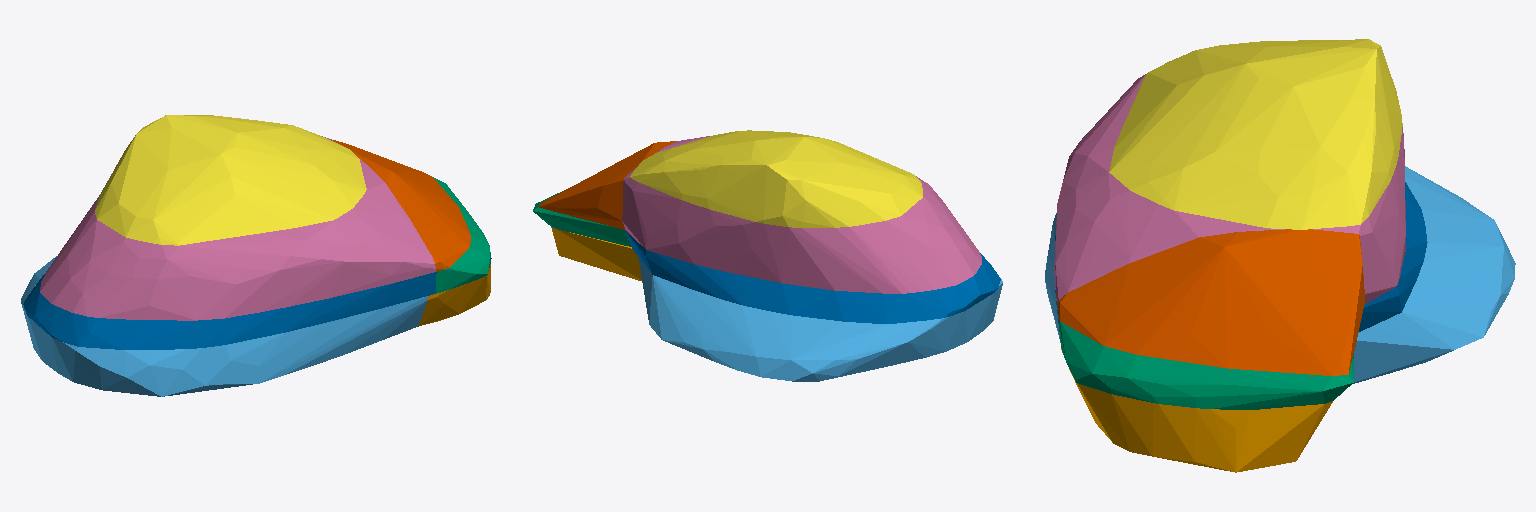
The robot description file, URDF, robot "root":
<?xml version='1.0' encoding='UTF-8'?>
<robot name="root">
  <link name="link_convex_piece_000.obj">
    <inertial>
      <origin xyz="0 0 0" rpy="0 0 0"/>
    </inertial>
    <visual>
      <origin xyz="0 0 0" rpy="0 0 0"/>
      <geometry>
        <mesh filename="meshes/convex_piece_000.obj" scale="1.0 1.0 1.0"/>
      </geometry>
    </visual>
    <collision>
      <origin xyz="0 0 0" rpy="0 0 0"/>
      <geometry>
        <mesh filename="meshes/convex_piece_000.obj" scale="1.0 1.0 1.0"/>
      </geometry>
    </collision>
  </link>
  <link name="link_convex_piece_001.obj">
    <inertial>
      <origin xyz="0 0 0" rpy="0 0 0"/>
    </inertial>
    <visual>
      <origin xyz="0 0 0" rpy="0 0 0"/>
      <geometry>
        <mesh filename="meshes/convex_piece_001.obj" scale="1.0 1.0 1.0"/>
      </geometry>
    </visual>
    <collision>
      <origin xyz="0 0 0" rpy="0 0 0"/>
      <geometry>
        <mesh filename="meshes/convex_piece_001.obj" scale="1.0 1.0 1.0"/>
      </geometry>
    </collision>
  </link>
  <link name="link_convex_piece_002.obj">
    <inertial>
      <origin xyz="0 0 0" rpy="0 0 0"/>
    </inertial>
    <visual>
      <origin xyz="0 0 0" rpy="0 0 0"/>
      <geometry>
        <mesh filename="meshes/convex_piece_002.obj" scale="1.0 1.0 1.0"/>
      </geometry>
    </visual>
    <collision>
      <origin xyz="0 0 0" rpy="0 0 0"/>
      <geometry>
        <mesh filename="meshes/convex_piece_002.obj" scale="1.0 1.0 1.0"/>
      </geometry>
    </collision>
  </link>
  <link name="link_convex_piece_003.obj">
    <inertial>
      <origin xyz="0 0 0" rpy="0 0 0"/>
    </inertial>
    <visual>
      <origin xyz="0 0 0" rpy="0 0 0"/>
      <geometry>
        <mesh filename="meshes/convex_piece_003.obj" scale="1.0 1.0 1.0"/>
      </geometry>
    </visual>
    <collision>
      <origin xyz="0 0 0" rpy="0 0 0"/>
      <geometry>
        <mesh filename="meshes/convex_piece_003.obj" scale="1.0 1.0 1.0"/>
      </geometry>
    </collision>
  </link>
  <link name="link_convex_piece_004.obj">
    <inertial>
      <origin xyz="0 0 0" rpy="0 0 0"/>
    </inertial>
    <visual>
      <origin xyz="0 0 0" rpy="0 0 0"/>
      <geometry>
        <mesh filename="meshes/convex_piece_004.obj" scale="1.0 1.0 1.0"/>
      </geometry>
    </visual>
    <collision>
      <origin xyz="0 0 0" rpy="0 0 0"/>
      <geometry>
        <mesh filename="meshes/convex_piece_004.obj" scale="1.0 1.0 1.0"/>
      </geometry>
    </collision>
  </link>
  <link name="link_convex_piece_005.obj">
    <inertial>
      <origin xyz="0 0 0" rpy="0 0 0"/>
    </inertial>
    <visual>
      <origin xyz="0 0 0" rpy="0 0 0"/>
      <geometry>
        <mesh filename="meshes/convex_piece_005.obj" scale="1.0 1.0 1.0"/>
      </geometry>
    </visual>
    <collision>
      <origin xyz="0 0 0" rpy="0 0 0"/>
      <geometry>
        <mesh filename="meshes/convex_piece_005.obj" scale="1.0 1.0 1.0"/>
      </geometry>
    </collision>
  </link>
  <link name="link_convex_piece_006.obj">
    <inertial>
      <origin xyz="0 0 0" rpy="0 0 0"/>
    </inertial>
    <visual>
      <origin xyz="0 0 0" rpy="0 0 0"/>
      <geometry>
        <mesh filename="meshes/convex_piece_006.obj" scale="1.0 1.0 1.0"/>
      </geometry>
    </visual>
    <collision>
      <origin xyz="0 0 0" rpy="0 0 0"/>
      <geometry>
        <mesh filename="meshes/convex_piece_006.obj" scale="1.0 1.0 1.0"/>
      </geometry>
    </collision>
  </link>
  <joint name="link_convex_piece_001.obj_joint" type="fixed">
    <origin xyz="0 0 0" rpy="0 0 0"/>
    <parent link="link_convex_piece_000.obj"/>
    <child link="link_convex_piece_001.obj"/>
  </joint>
  <joint name="link_convex_piece_002.obj_joint" type="fixed">
    <origin xyz="0 0 0" rpy="0 0 0"/>
    <parent link="link_convex_piece_000.obj"/>
    <child link="link_convex_piece_002.obj"/>
  </joint>
  <joint name="link_convex_piece_003.obj_joint" type="fixed">
    <origin xyz="0 0 0" rpy="0 0 0"/>
    <parent link="link_convex_piece_000.obj"/>
    <child link="link_convex_piece_003.obj"/>
  </joint>
  <joint name="link_convex_piece_004.obj_joint" type="fixed">
    <origin xyz="0 0 0" rpy="0 0 0"/>
    <parent link="link_convex_piece_000.obj"/>
    <child link="link_convex_piece_004.obj"/>
  </joint>
  <joint name="link_convex_piece_005.obj_joint" type="fixed">
    <origin xyz="0 0 0" rpy="0 0 0"/>
    <parent link="link_convex_piece_000.obj"/>
    <child link="link_convex_piece_005.obj"/>
  </joint>
  <joint name="link_convex_piece_006.obj_joint" type="fixed">
    <origin xyz="0 0 0" rpy="0 0 0"/>
    <parent link="link_convex_piece_000.obj"/>
    <child link="link_convex_piece_006.obj"/>
  </joint>
</robot>

--- What the picture shows (computed from the rendered views, not written in the file) ---
3 views of the same robot in one strip: view 1: azimuth 30°, elevation 25°; view 2: azimuth 150°, elevation 25°; view 3: azimuth 270°, elevation 25° (orthographic).
Robot: root — 7 links, 6 joints (6 fixed); root link link_convex_piece_000.obj; default pose: all joints at 0.
Visible links, largest first — view 1: link_convex_piece_006.obj, link_convex_piece_003.obj, link_convex_piece_001.obj, link_convex_piece_004.obj, link_convex_piece_005.obj, link_convex_piece_002.obj, link_convex_piece_000.obj; view 2: link_convex_piece_006.obj, link_convex_piece_003.obj, link_convex_piece_001.obj, link_convex_piece_004.obj, link_convex_piece_005.obj, link_convex_piece_000.obj, link_convex_piece_002.obj; view 3: link_convex_piece_003.obj, link_convex_piece_005.obj, link_convex_piece_006.obj, link_convex_piece_001.obj, link_convex_piece_000.obj, link_convex_piece_002.obj, link_convex_piece_004.obj.
Link boxes in pixels (x1,y1,x2,y2): link_convex_piece_006.obj: (40,136,435,320); link_convex_piece_003.obj: (95,115,366,245); link_convex_piece_001.obj: (21,256,427,396); link_convex_piece_004.obj: (23,272,436,349); link_convex_piece_005.obj: (331,139,470,271); link_convex_piece_002.obj: (433,177,491,293); link_convex_piece_000.obj: (418,264,490,326); link_convex_piece_006.obj: (622,136,981,293); link_convex_piece_003.obj: (630,130,922,227); link_convex_piece_001.obj: (638,256,1002,381); link_convex_piece_004.obj: (625,230,1000,323); link_convex_piece_005.obj: (539,141,676,229); link_convex_piece_000.obj: (551,227,641,280); link_convex_piece_002.obj: (533,191,630,246); link_convex_piece_003.obj: (1109,39,1402,229); link_convex_piece_005.obj: (1057,229,1364,375); link_convex_piece_006.obj: (1054,74,1405,308); link_convex_piece_001.obj: (1045,166,1515,383); link_convex_piece_000.obj: (1061,348,1332,472); link_convex_piece_002.obj: (1058,317,1353,409); link_convex_piece_004.obj: (1055,182,1427,331).
Bounding box of the posed robot: 0.1228 × 0.0816 × 0.0473 m (x, y, z).
7 mesh visuals loaded from 7 distinct referenced files (7 OBJ).
